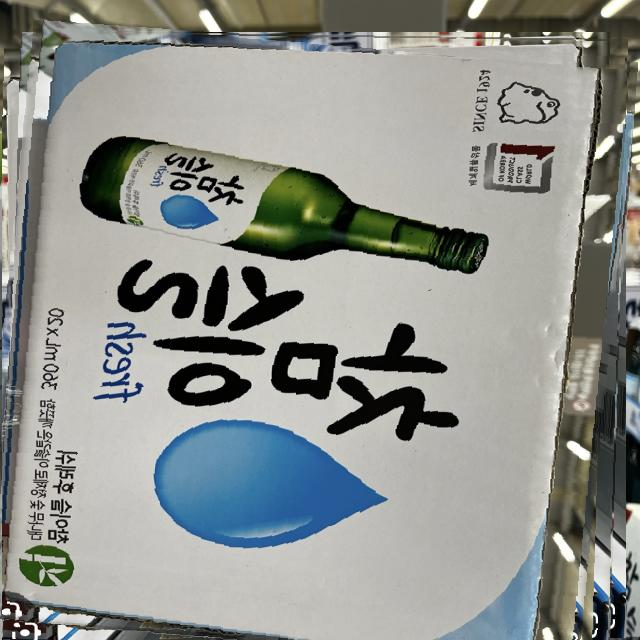biodegradable: (2, 30, 628, 640)
